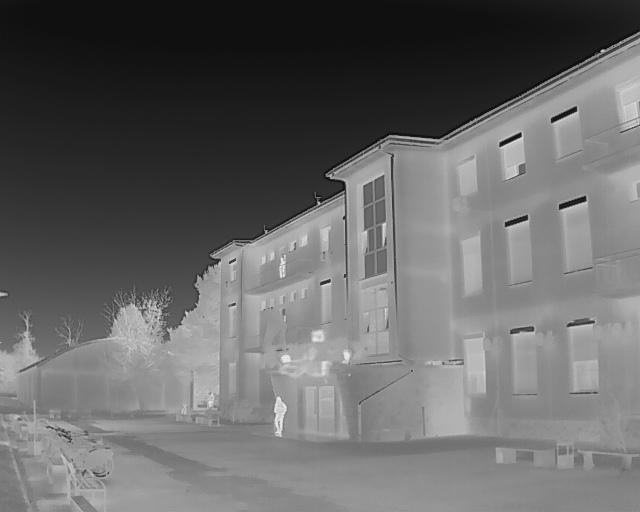drone: (260, 326, 366, 396)
